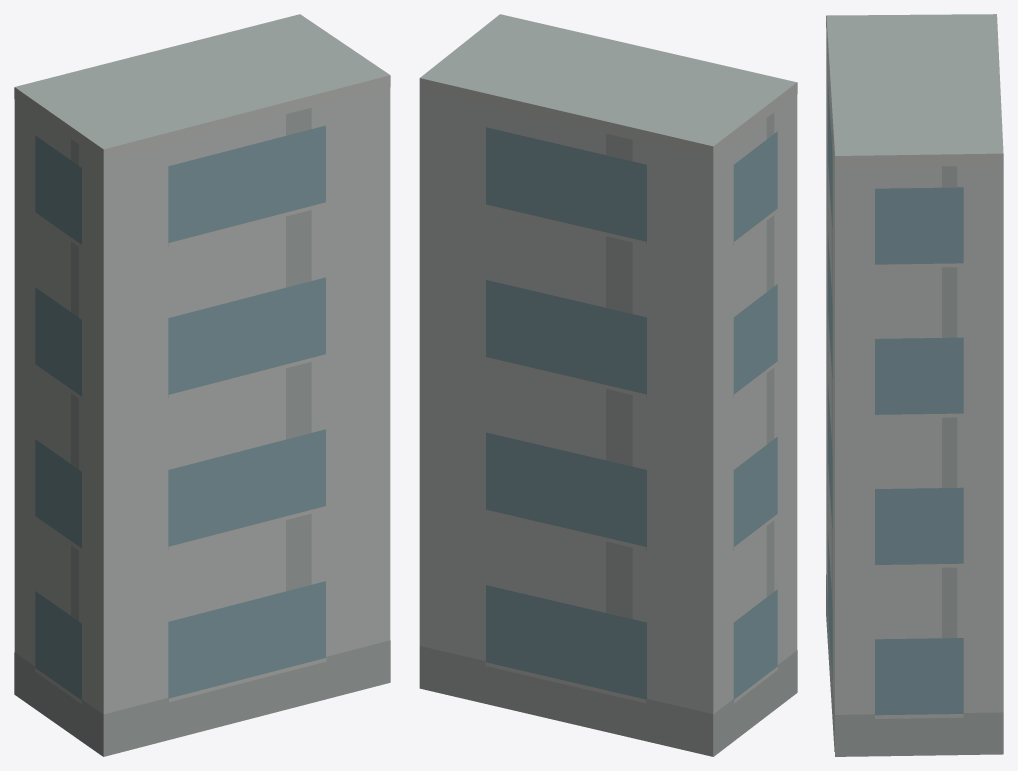
File: survey-upis-32623535.glb
The picture shows the model from 3 angles, left to right: view 1: azimuth 30°, elevation 25°; view 2: azimuth 150°, elevation 25°; view 3: azimuth 270°, elevation 25°; orthographic projection.
Visible parts, largest first — view 1: survey-upis-32623535.tmp; view 2: survey-upis-32623535.tmp; view 3: survey-upis-32623535.tmp.
Boxes of the visible parts, box(x1,y1,x2,y2) form: survey-upis-32623535.tmp: box(14, 14, 390, 756); survey-upis-32623535.tmp: box(419, 14, 797, 756); survey-upis-32623535.tmp: box(826, 14, 1003, 756).
Size of the model in its own units: 6.19 by 12.2 by 3.27.
